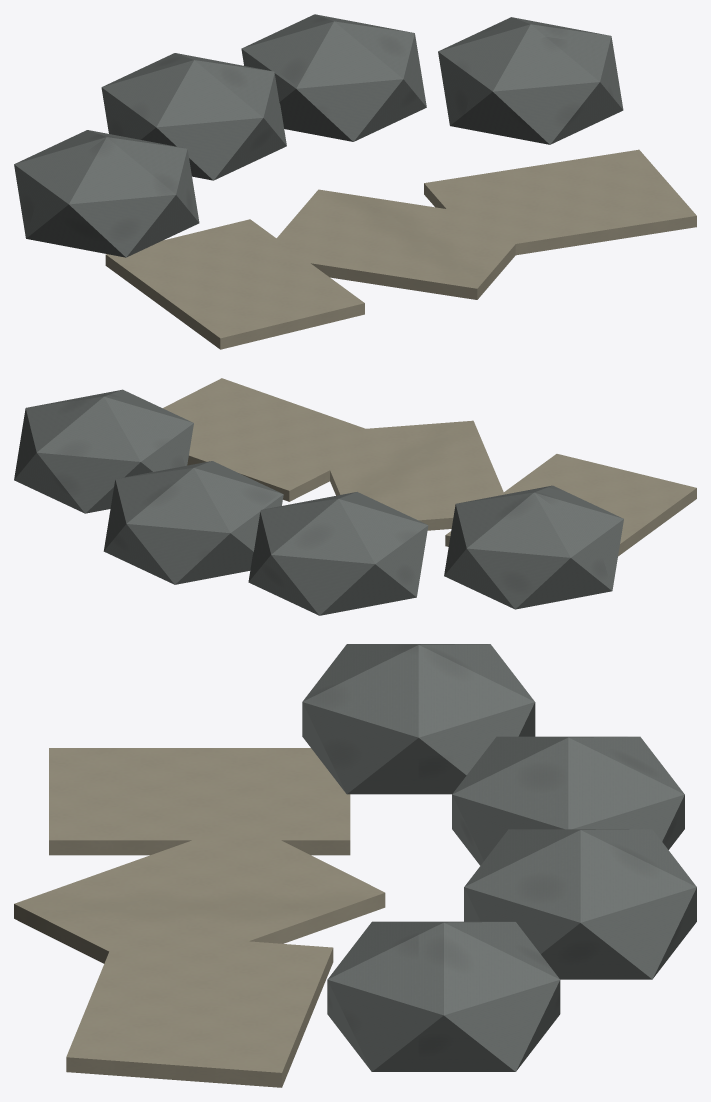
The model's file is road_debris.glb.
3 renders of one model, top to bottom at view 1: azimuth 30°, elevation 25°; view 2: azimuth 150°, elevation 25°; view 3: azimuth 270°, elevation 25°, orthographic. The views are drawn at different scales.
Parts seen in each view (by area): view 1: DD_road_debris; view 2: DD_road_debris; view 3: DD_road_debris.
Part boxes in pixels (box(x1,y1,x2,y2)): DD_road_debris: box(14, 14, 696, 349); DD_road_debris: box(14, 378, 696, 615); DD_road_debris: box(14, 644, 696, 1087).
Size of the model in its own units: 0.6589 by 0.12 by 0.4989.
2 materials, 2 textured.
